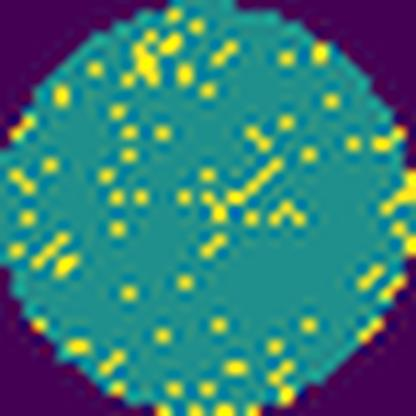Loc: (125, 28, 165, 90)
